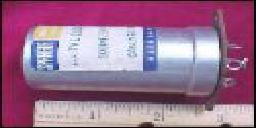Electrolytic-Capacitor: (17, 17, 252, 98)
